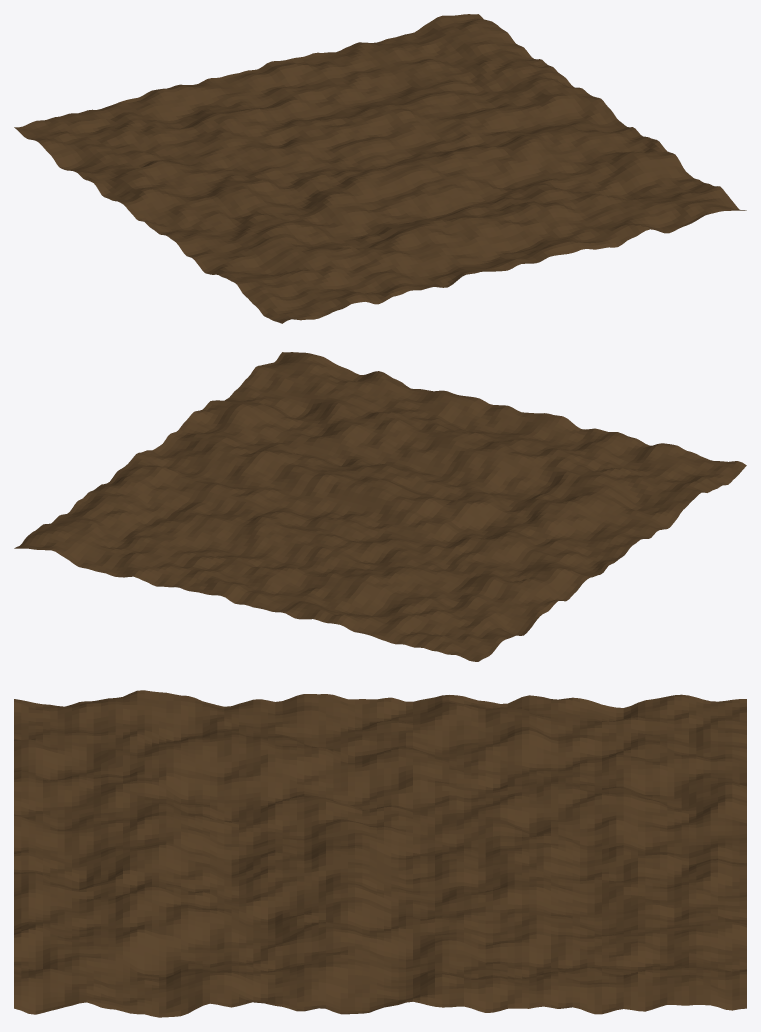
Rendered from ground.fbx.
3 views of the same model, one above another, from view 1: azimuth 30°, elevation 25°; view 2: azimuth 150°, elevation 25°; view 3: azimuth 270°, elevation 25° (orthographic). The views are drawn at different scales.
Parts seen in each view (by area): view 1: 平面; view 2: 平面; view 3: 平面.
Part boxes in pixels (left/top/right/bottom): 平面: left=14, top=14, right=746, bottom=323; 平面: left=14, top=352, right=746, bottom=661; 平面: left=14, top=690, right=746, bottom=1017.
Size of the model in its own units: 1268 by 49.56 by 1268.
